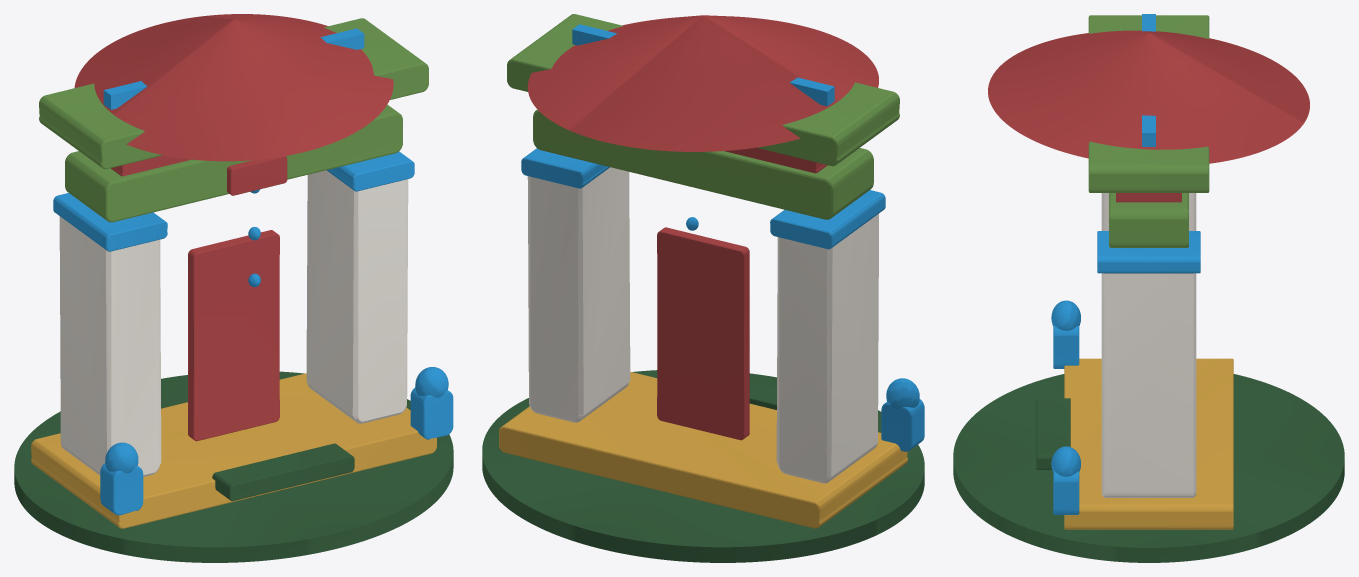
File: 0914_秦汉图鉴_关塞.glb
The picture shows the model from 3 angles, left to right: view 1: azimuth 30°, elevation 25°; view 2: azimuth 150°, elevation 25°; view 3: azimuth 270°, elevation 25°; orthographic projection. The views are drawn at different scales.
Visible parts, largest first — view 1: card_0914; view 2: card_0914; view 3: card_0914.
Boxes of the visible parts, x1,y1,x2,y2 form: card_0914: [14, 14, 453, 562]; card_0914: [482, 14, 924, 562]; card_0914: [953, 14, 1344, 562].
Size of the model in its own units: 0.895 by 1 by 0.8085.
